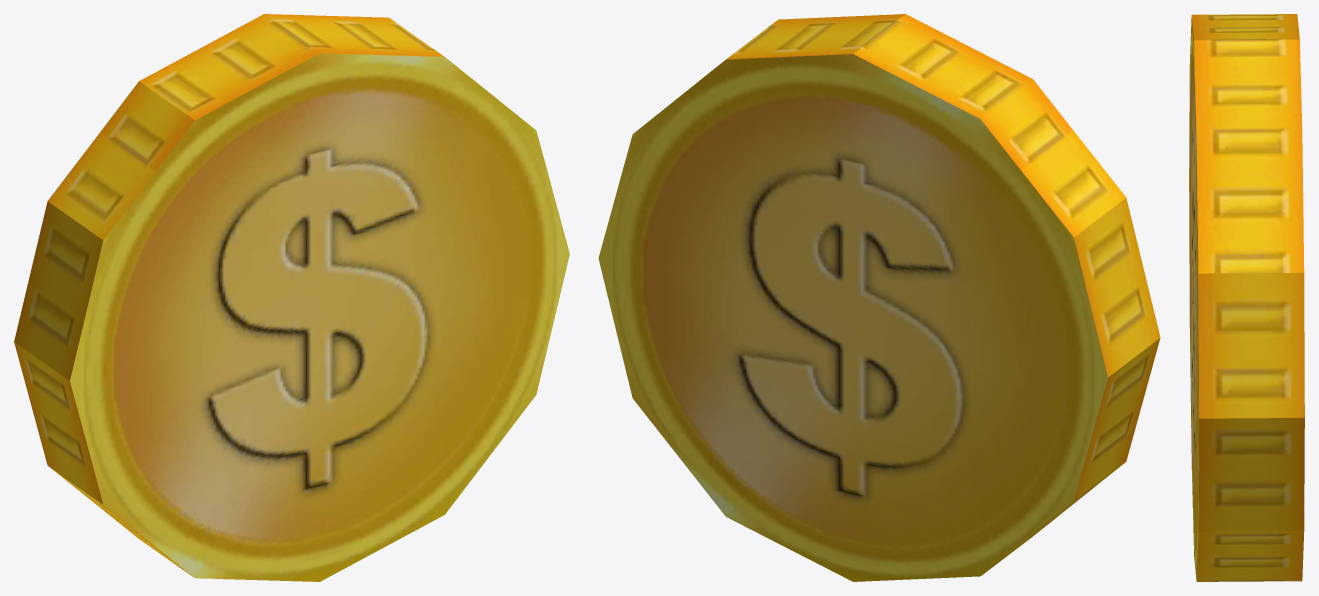
File: coin.fbx
3 views of the same model, side by side, from view 1: azimuth 30°, elevation 25°; view 2: azimuth 150°, elevation 25°; view 3: azimuth 270°, elevation 25° (orthographic). The views are drawn at different scales.
Visible parts, largest first — view 1: coin; view 2: coin; view 3: coin.
Part boxes in pixels (x1,y1,x2,y2): coin: (14, 14, 569, 581); coin: (598, 14, 1160, 581); coin: (1189, 14, 1304, 581).
Bounding box in the file's own units: 1.51 × 1.5 × 0.3058.
Materials: 1 (1 with a texture image).
